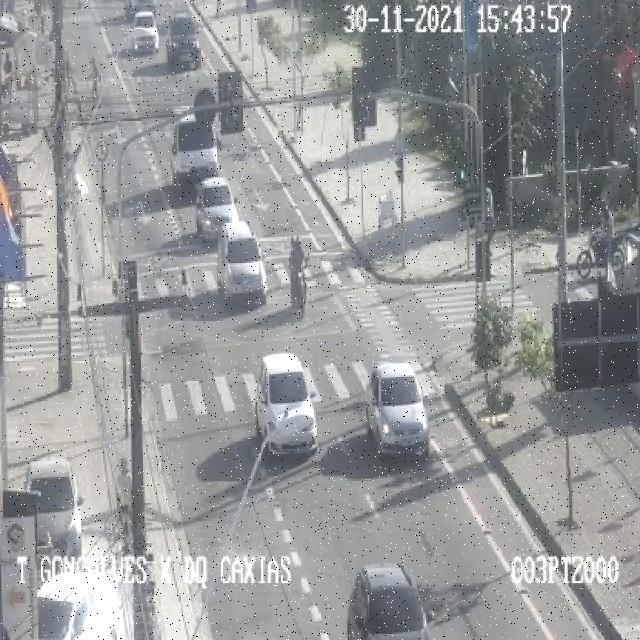Car: (254, 354, 319, 456), (363, 360, 433, 453), (216, 220, 268, 305), (188, 177, 240, 244), (165, 15, 202, 69), (129, 9, 162, 59)
Cycle: (288, 230, 310, 323)
